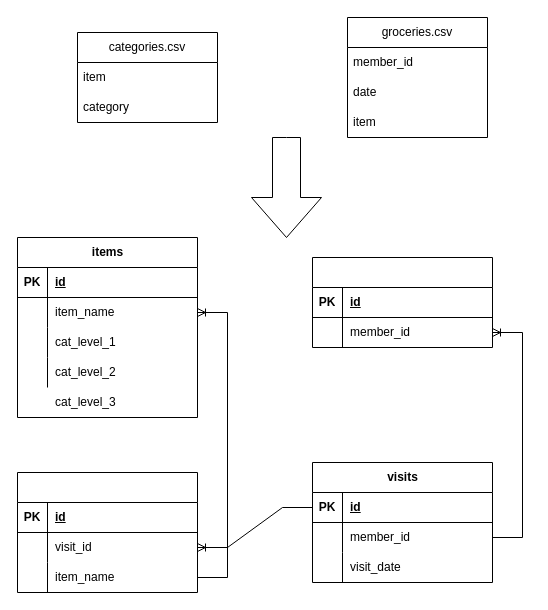
This 548x610 diagram has some shape labels left out. Each missing label, with the box of its shape:
members: (312, 256, 492, 348)
sales: (16, 472, 198, 592)
